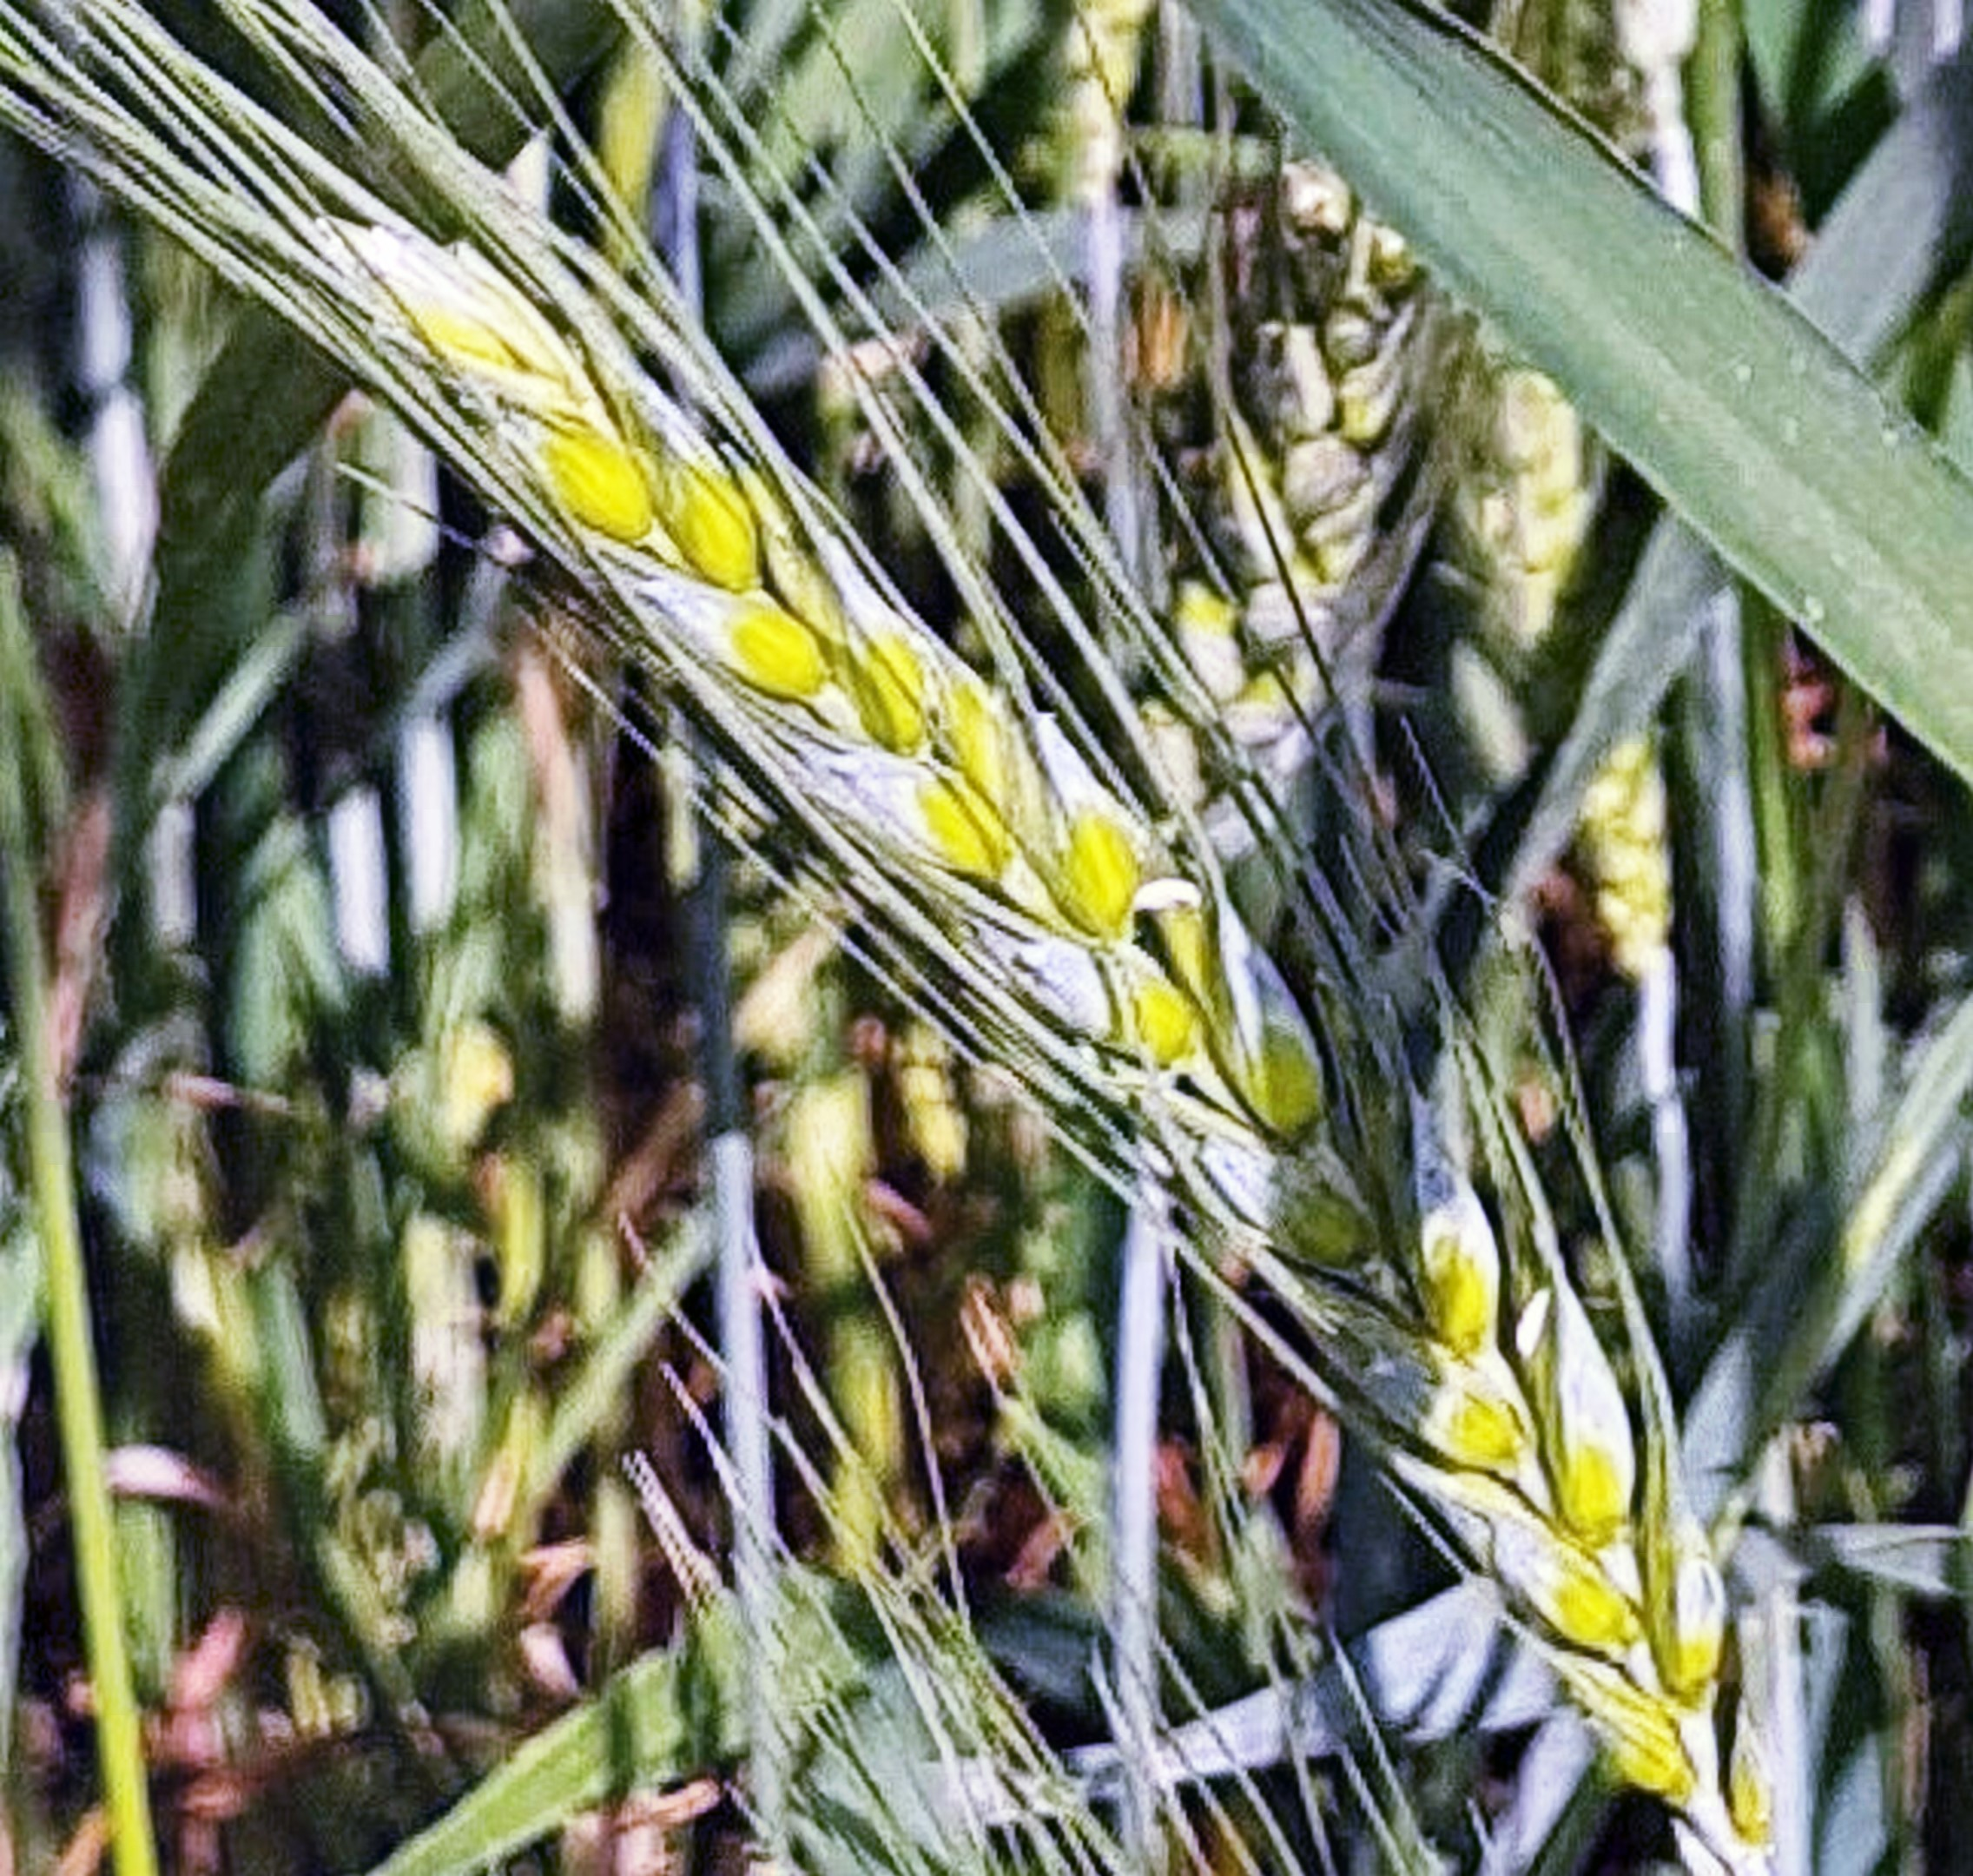Healthy Wheat: (354, 218, 1793, 1772)
